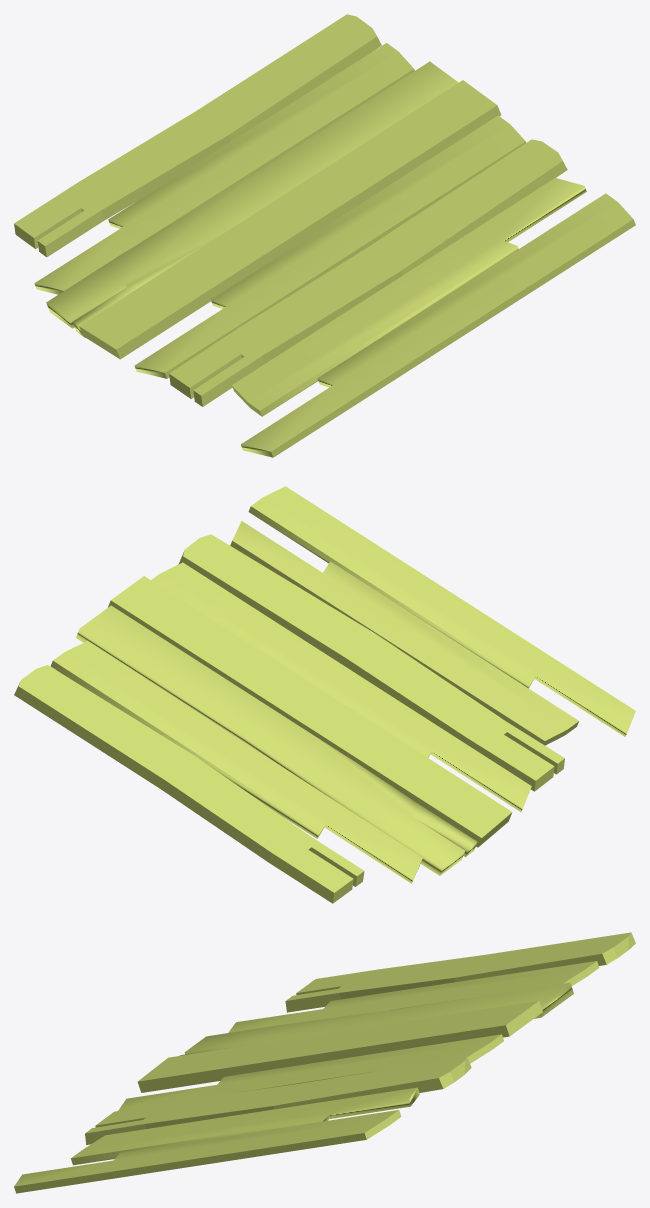
Rendered from Beam_Structure_16A_Lod0.fbx.
3 views of the same model, one above another, from view 1: azimuth 30°, elevation 25°; view 2: azimuth 150°, elevation 25°; view 3: azimuth 330°, elevation 25° (orthographic). The views are drawn at different scales.
Parts seen in each view (by area): view 1: Beam_Structure_16A_Lod0; view 2: Beam_Structure_16A_Lod0; view 3: Beam_Structure_16A_Lod0.
Boxes of the visible parts, bbox=[...] form: Beam_Structure_16A_Lod0: bbox=[14, 14, 635, 457]; Beam_Structure_16A_Lod0: bbox=[14, 486, 635, 903]; Beam_Structure_16A_Lod0: bbox=[14, 932, 635, 1193].
Bounding box in the file's own units: 213 × 87.24 × 270.
